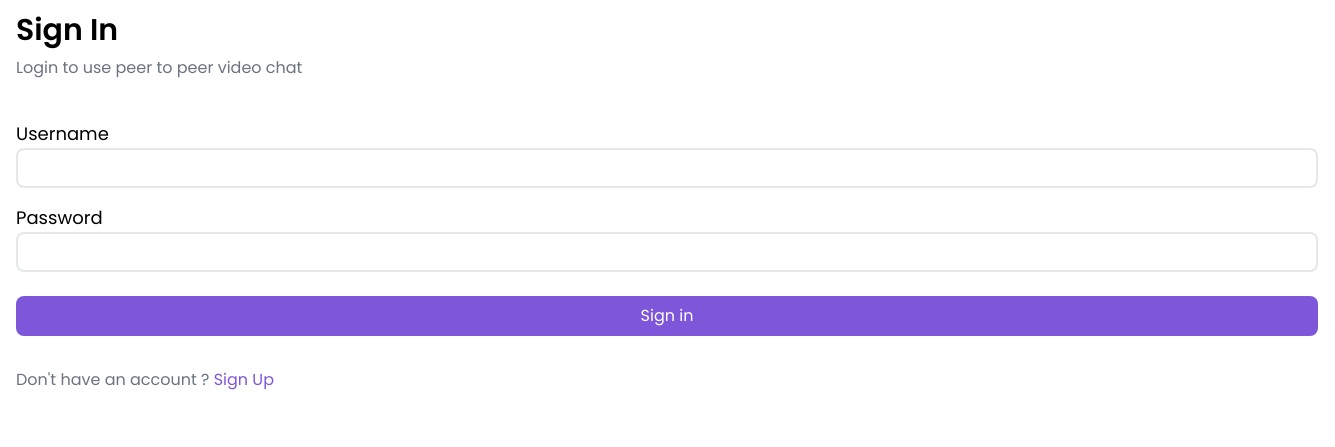
Test: Login form › should render correct error when password length is less than 6
In the password field labelled "Password": (667, 252) [16,232,1318,272], type "12345"
Then press Enter
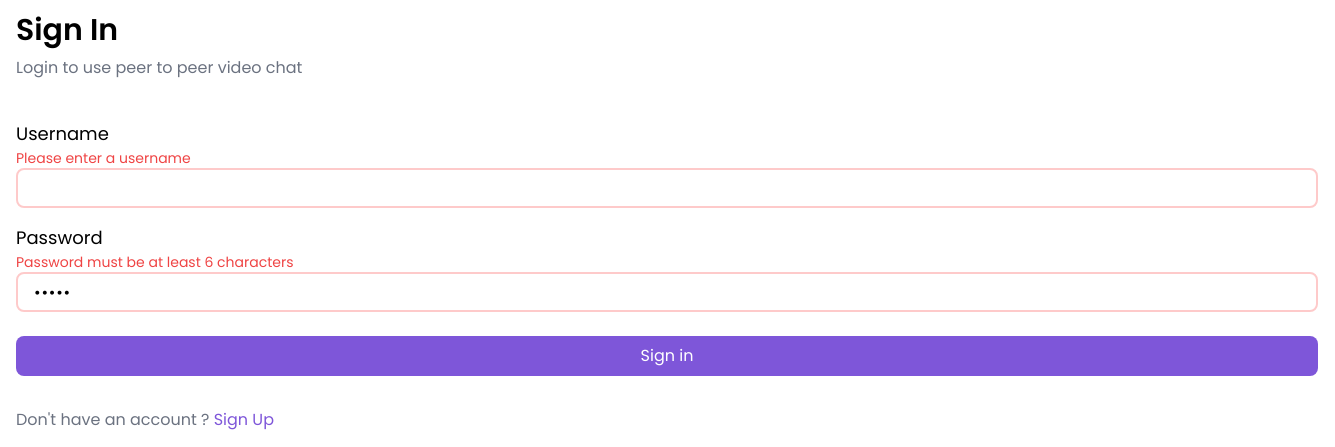
expect the text "Password must be at least 6 characters" is shown: met, box [16,252,294,272]
